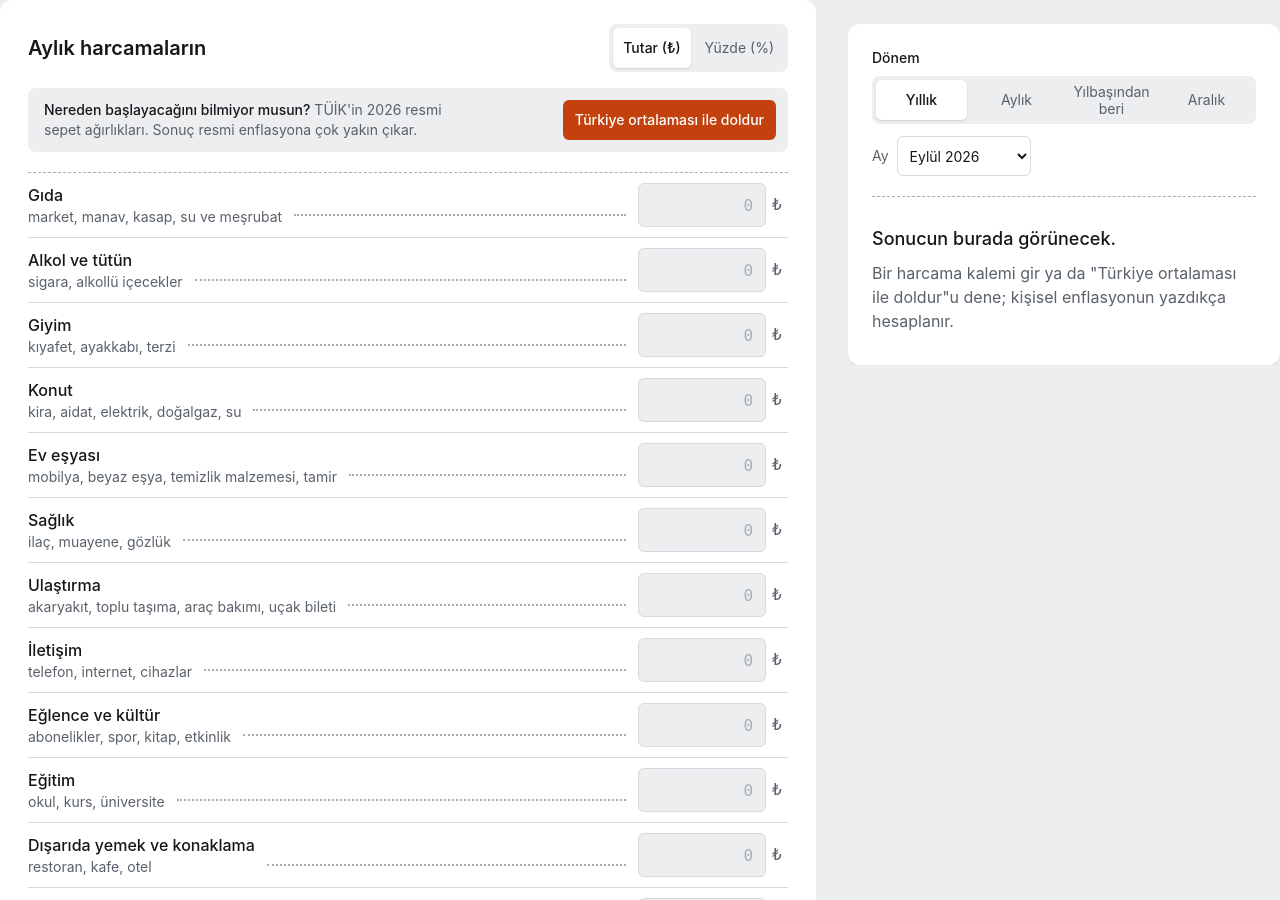
Test: Calculator › geçersiz girdide alanı işaretler ve açıklama gösterir
The image size is (1280, 900).
Type "abc" into the field labelled "Gıda" at coordinates (702, 205), box [638,183,766,227]
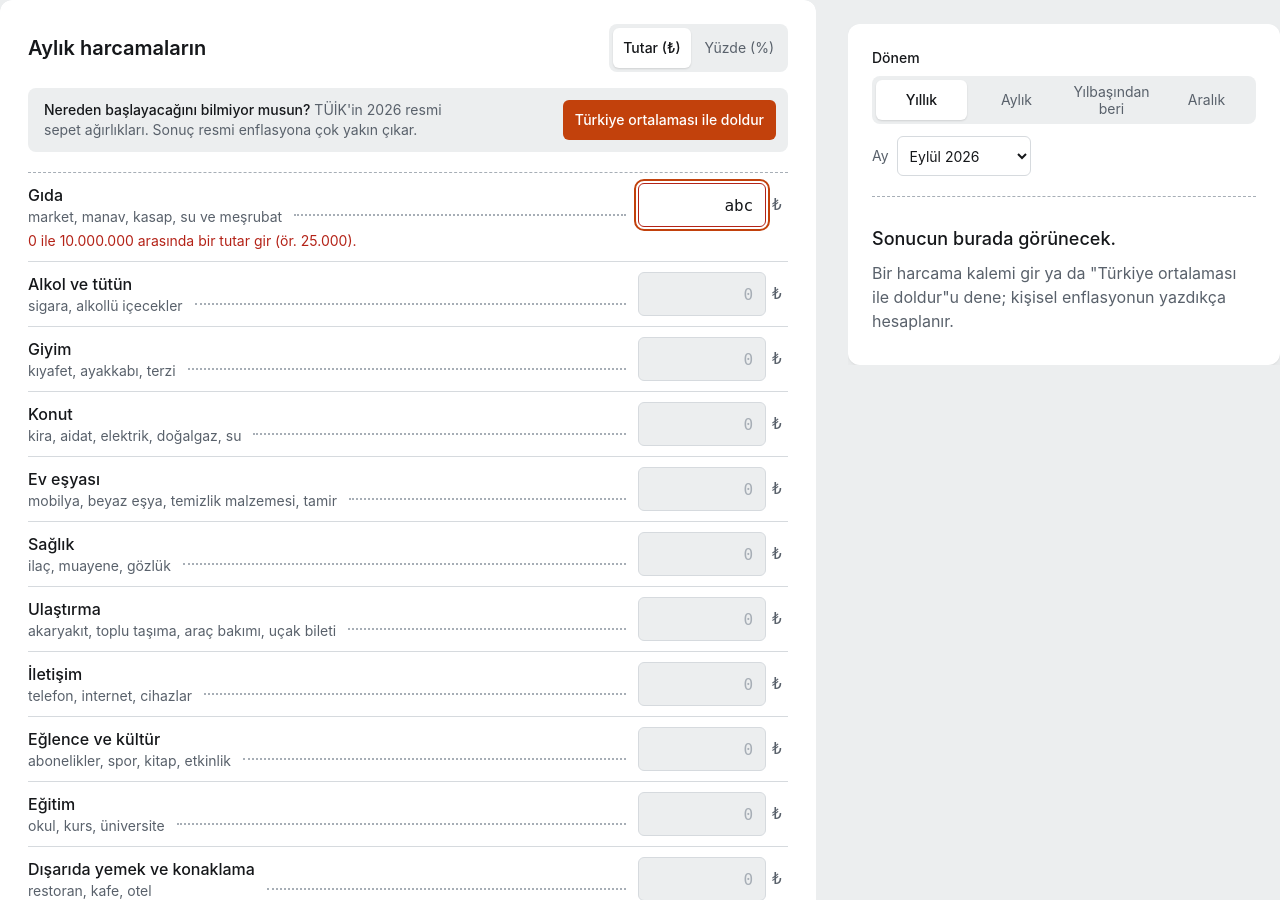
Expected: the text "0 ile 10.000.000 arasında bir tutar gir (ör. 25.000)." is shown, [28,232,357,249]
